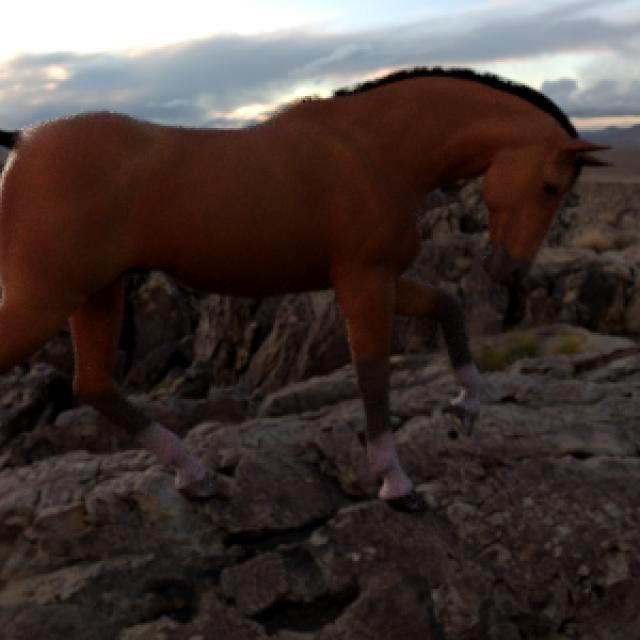horse: (0, 69, 601, 511)
